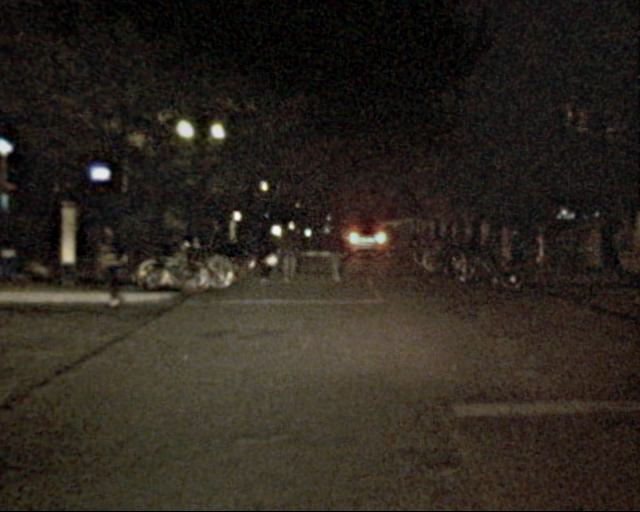person: (96, 220, 135, 307), (322, 222, 350, 284), (247, 217, 273, 282), (275, 221, 301, 285)
